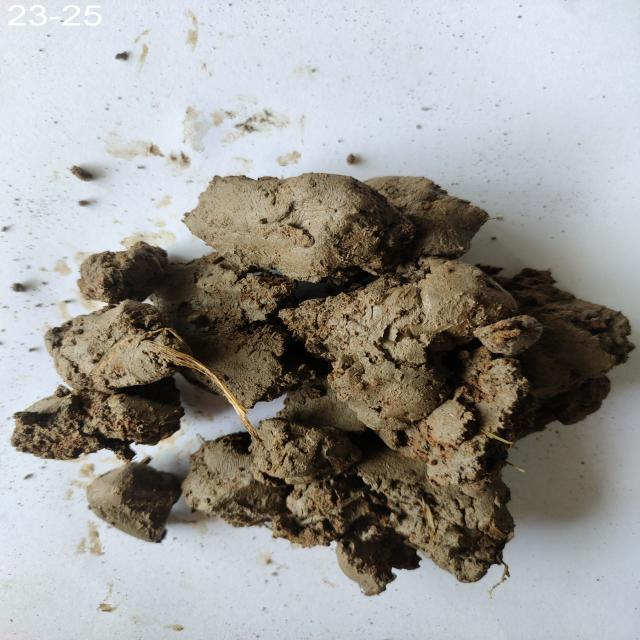soil: (224, 228, 492, 484)
